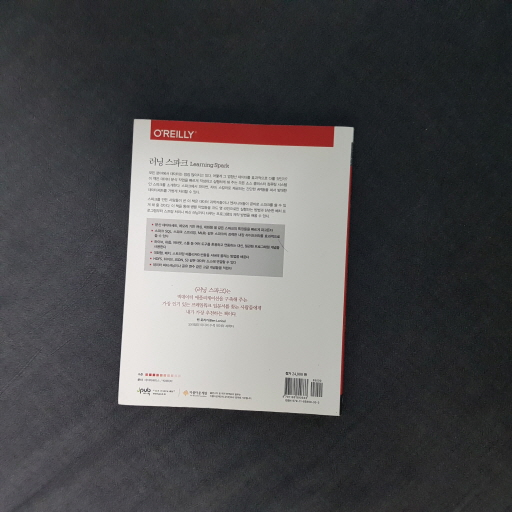Paper_0: (117, 110, 356, 430)
